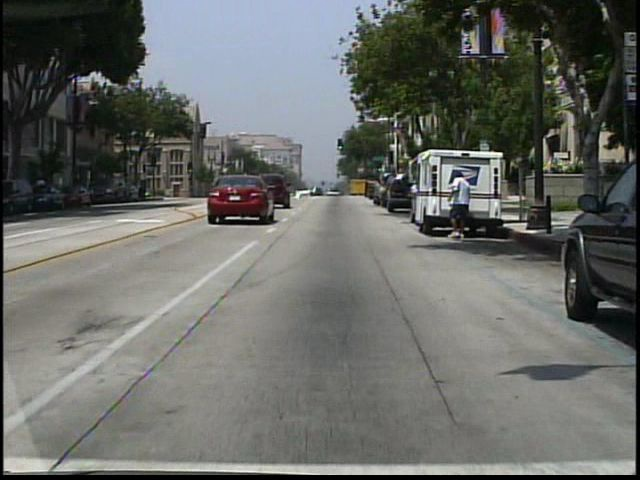person: (445, 169, 477, 241), (381, 172, 382, 211)
